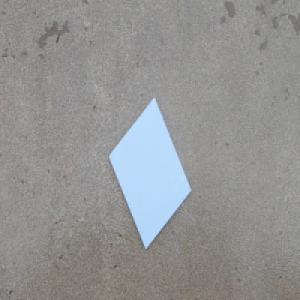PaintChip: (108, 95, 191, 251)
